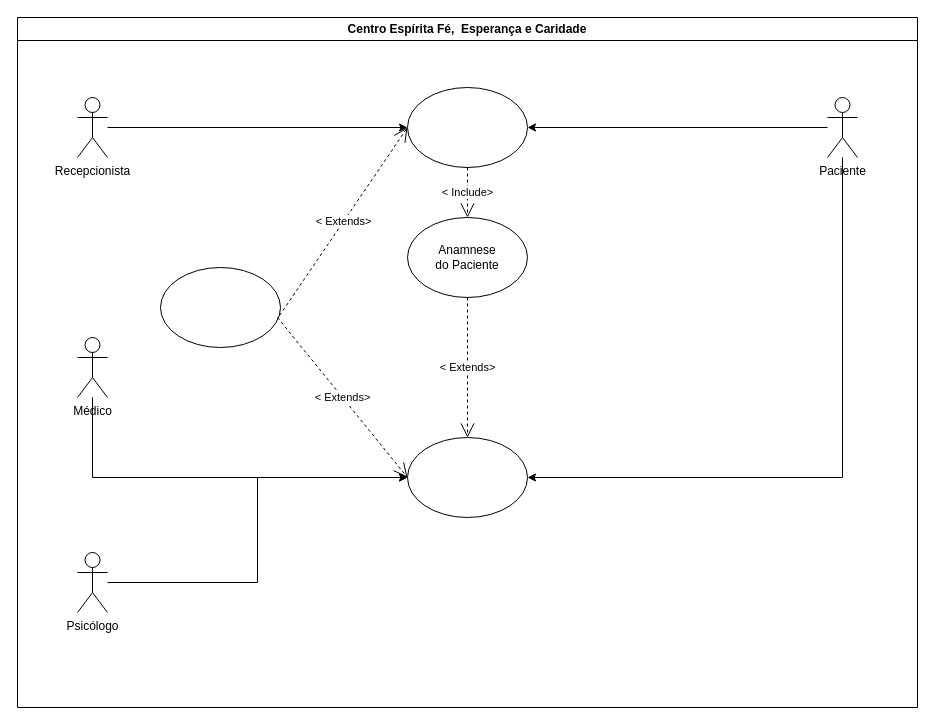
The diagram is 935 pixels wide and 725 high, and some of its shapes have lost their labels. Each missing label, with the centre of its shape:
"Atende/Atendido" goes at pixel 467 477.
"Fazer Login no Sistema" goes at pixel 220 307.
"Ficha Cadastral/ Prontuário" goes at pixel 467 127.
